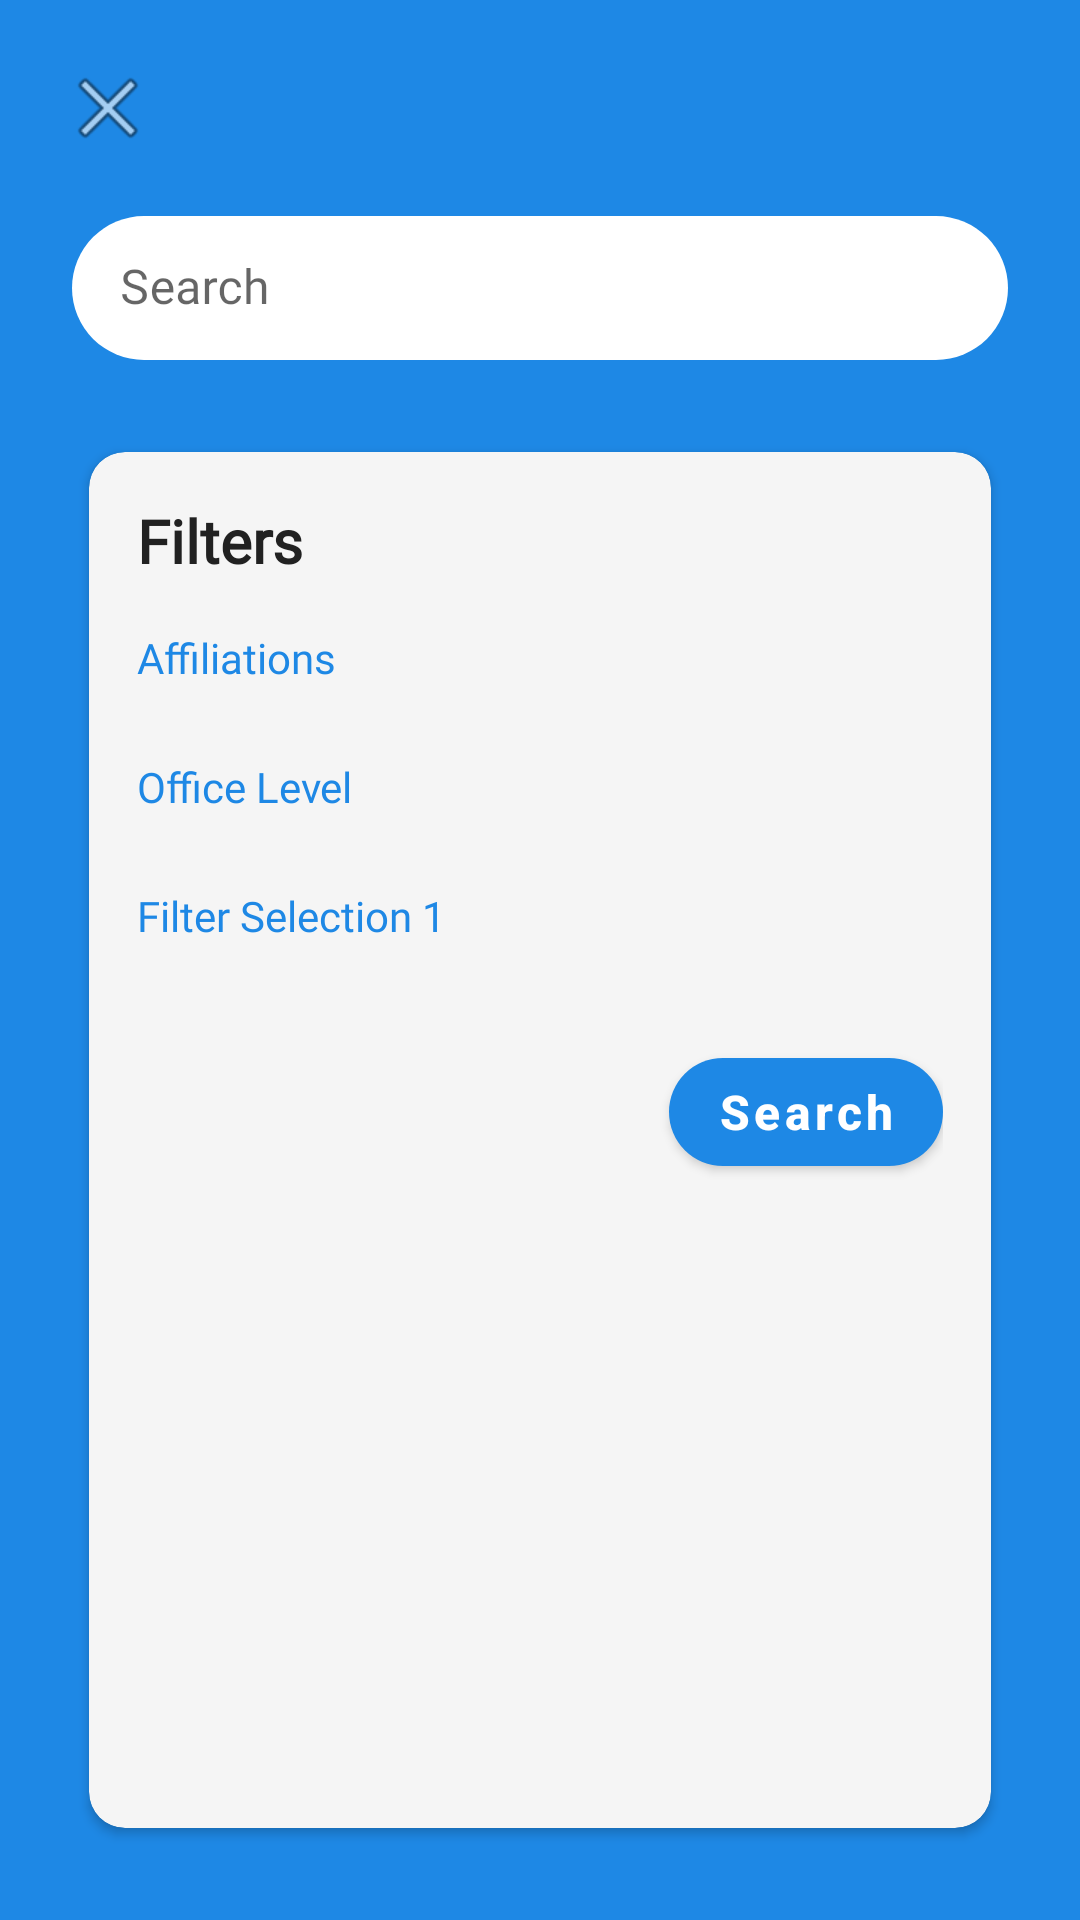

Named icons in this screenshot (1080×1920) and their centers, point (x, y):
close clear cancel: point (108, 108)
